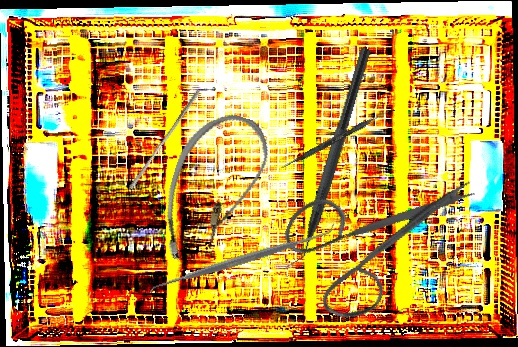Cannula: (150, 102, 277, 277)
Chopper: (281, 42, 372, 277)
Iris Scissors: (262, 119, 480, 347)
Pusher: (128, 87, 201, 192)
Spatula Surgical: (146, 219, 339, 299), (280, 104, 395, 173)
